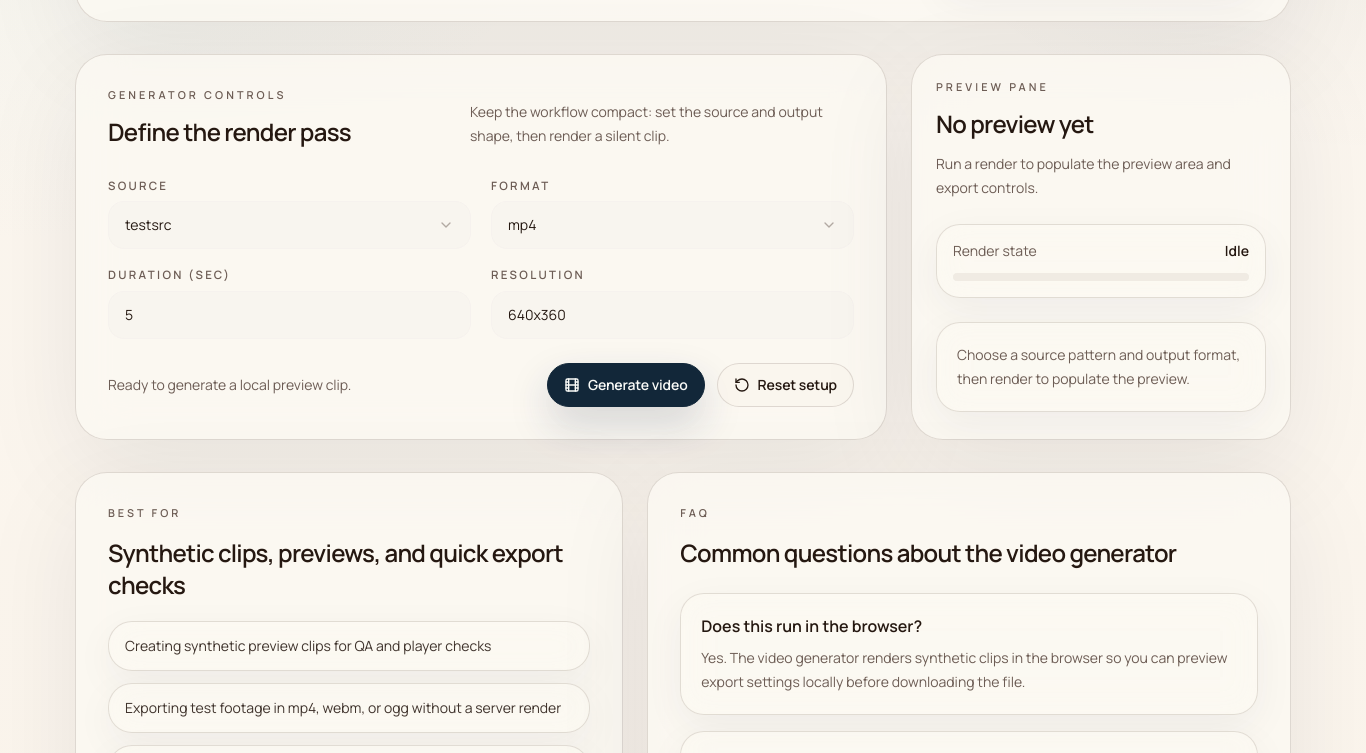
Scenario: VideoGeneratorPage › restores the UI after a failed render
(page scrolled)
Click the button "Generate video" at (626, 385), box [547,363,705,407]
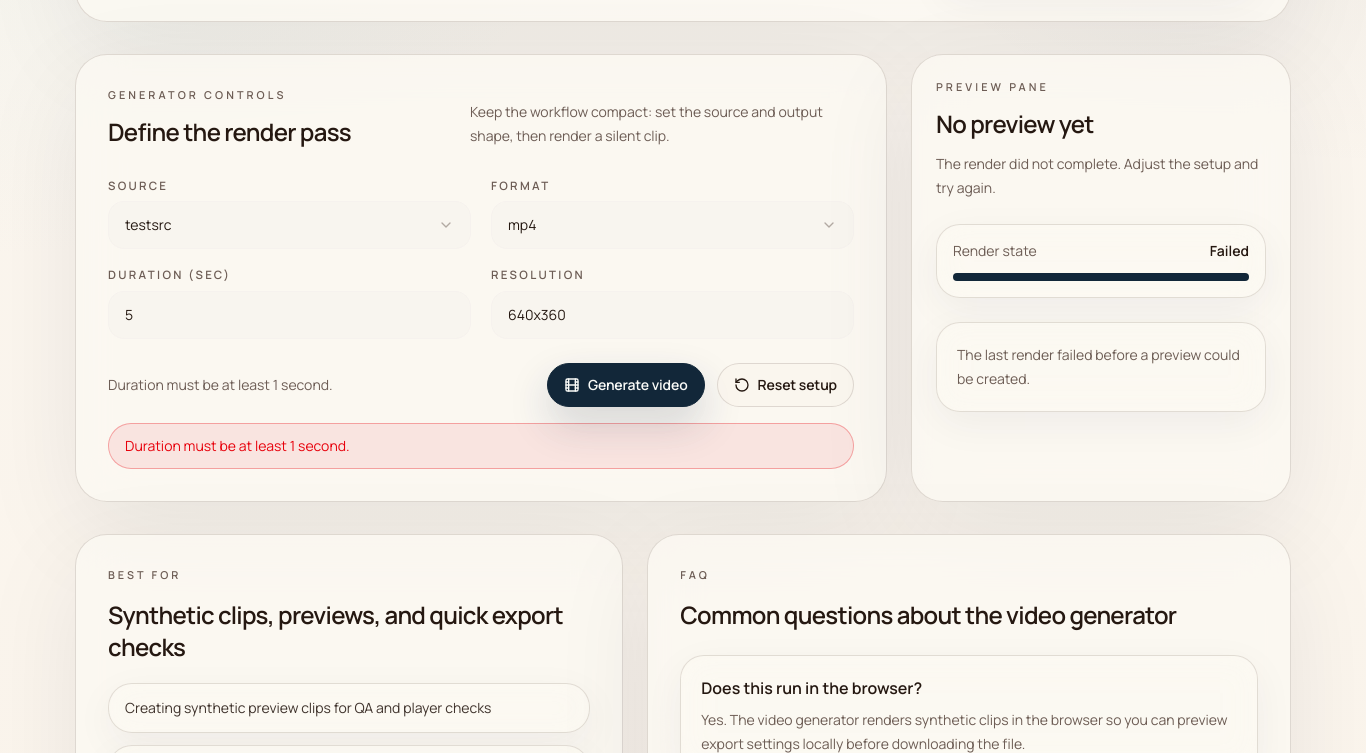
Now the 1st text "Duration must be at least 1 second." is shown, box [108,375,332,394]
Now the text "Failed" is shown, box [1210,241,1249,261]
